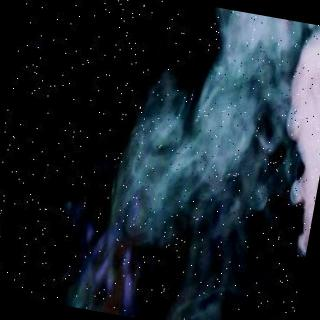smoke: (97, 0, 294, 270), (250, 23, 320, 302)
